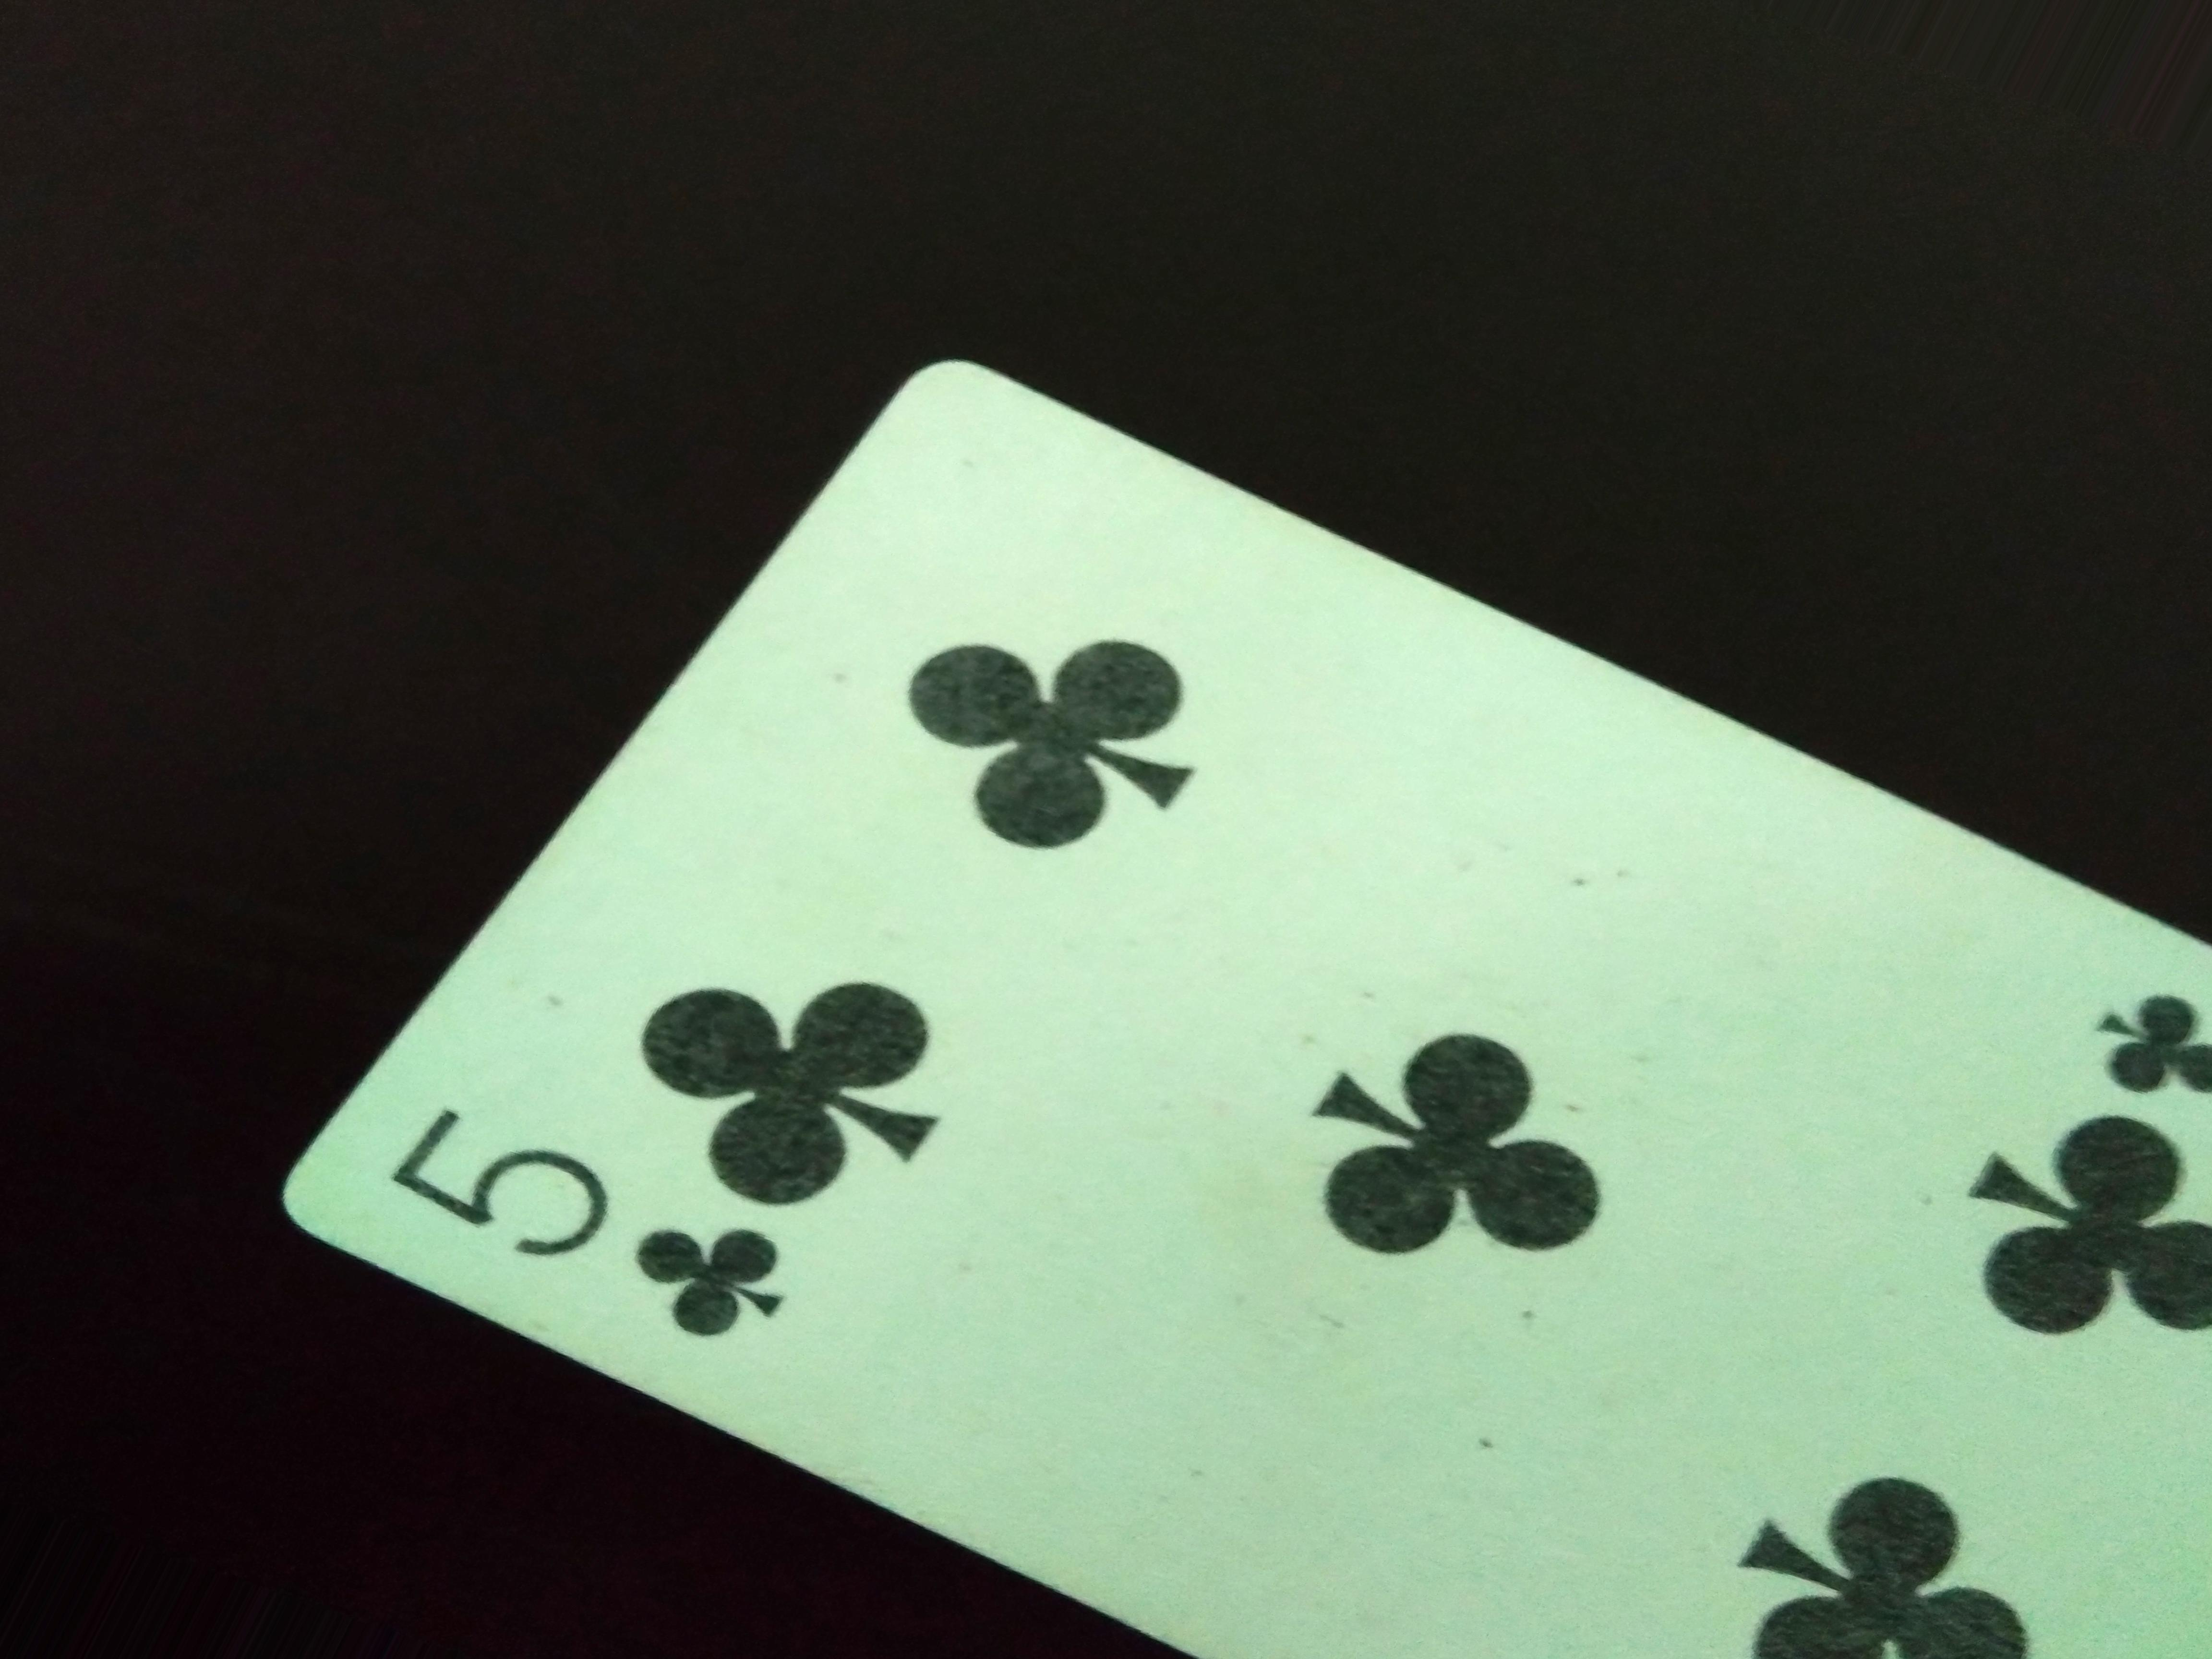5C: (385, 1093, 801, 1371)
